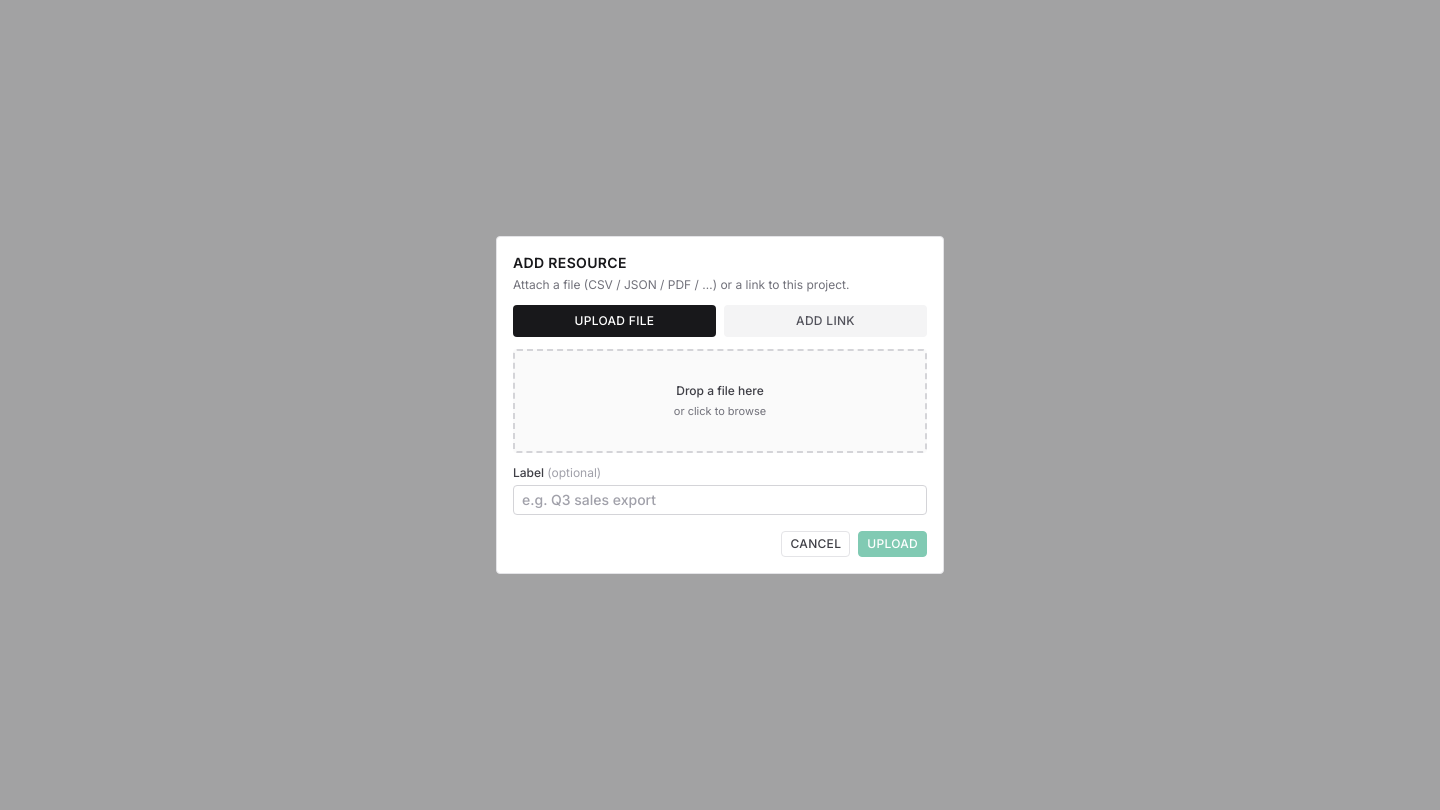
ResourceUploadModal — tabpanel DOM persistence (NIT-2) › keeps both tabpanels mounted and toggles `hidden` on switch (file active by default)
The width and height of the screenshot is (1440, 810).
Expected: the panel is shown, left=513, top=349, right=927, bottom=515
Click the tab "Add link" at [826, 321], box left=724, top=305, right=927, bottom=337
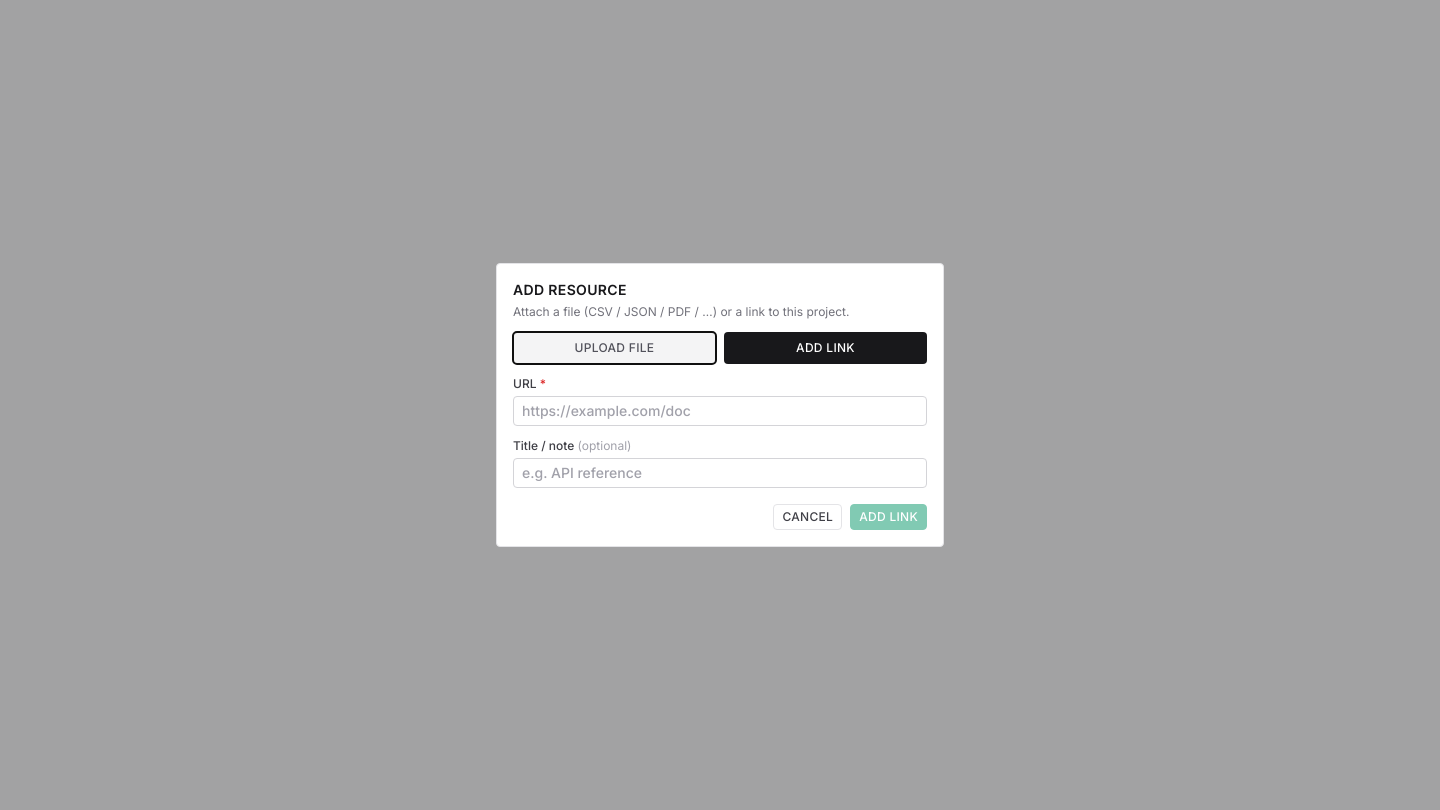
Result: the panel is shown at left=513, top=376, right=927, bottom=488
